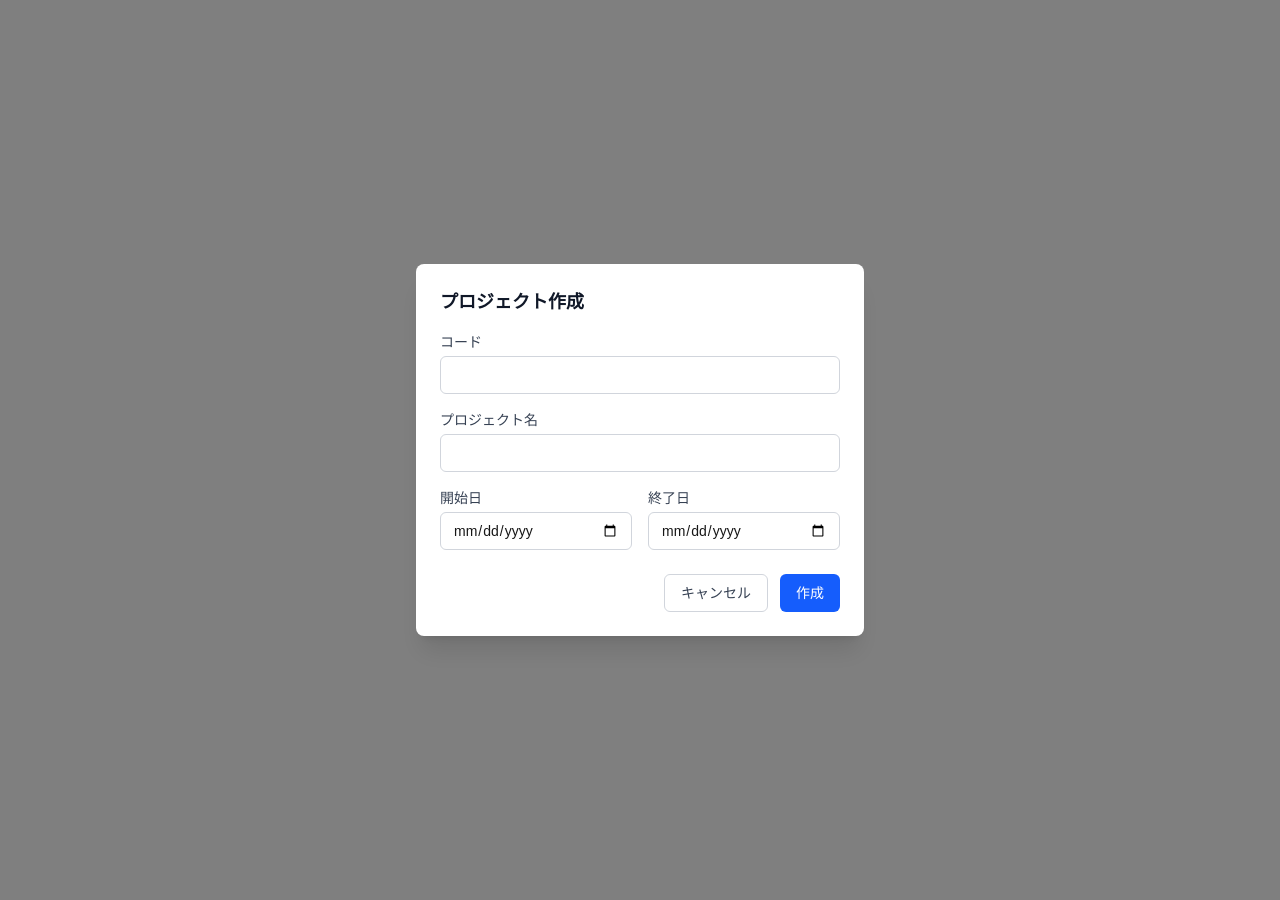
Test case: ProjectForm › shows generic error for non-API errors
Type "NEW" into the field labelled "コード" at x=640, y=375, box [440,356,840,394]
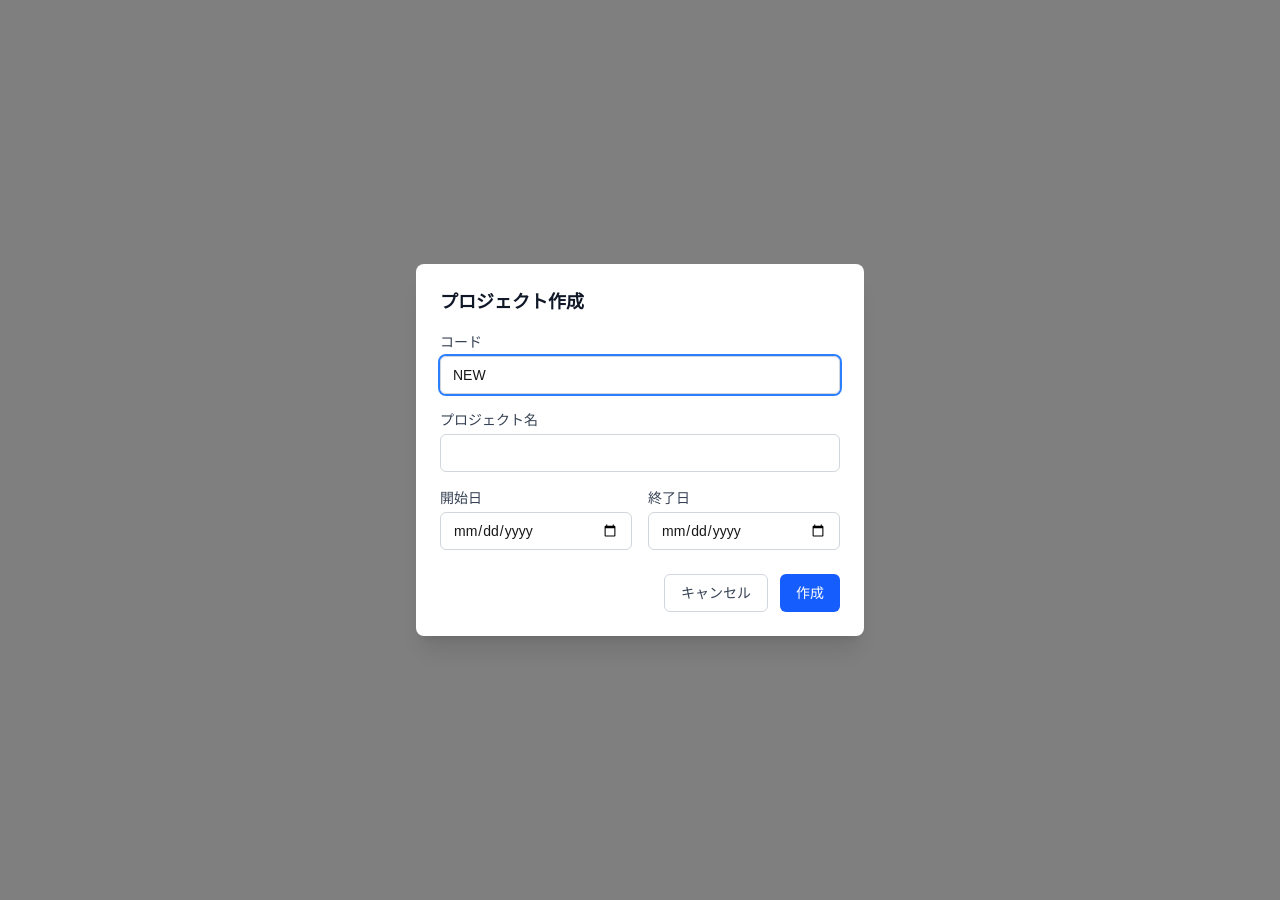
Type "Test" into the field labelled "プロジェクト名" at x=640, y=453, box [440,434,840,472]
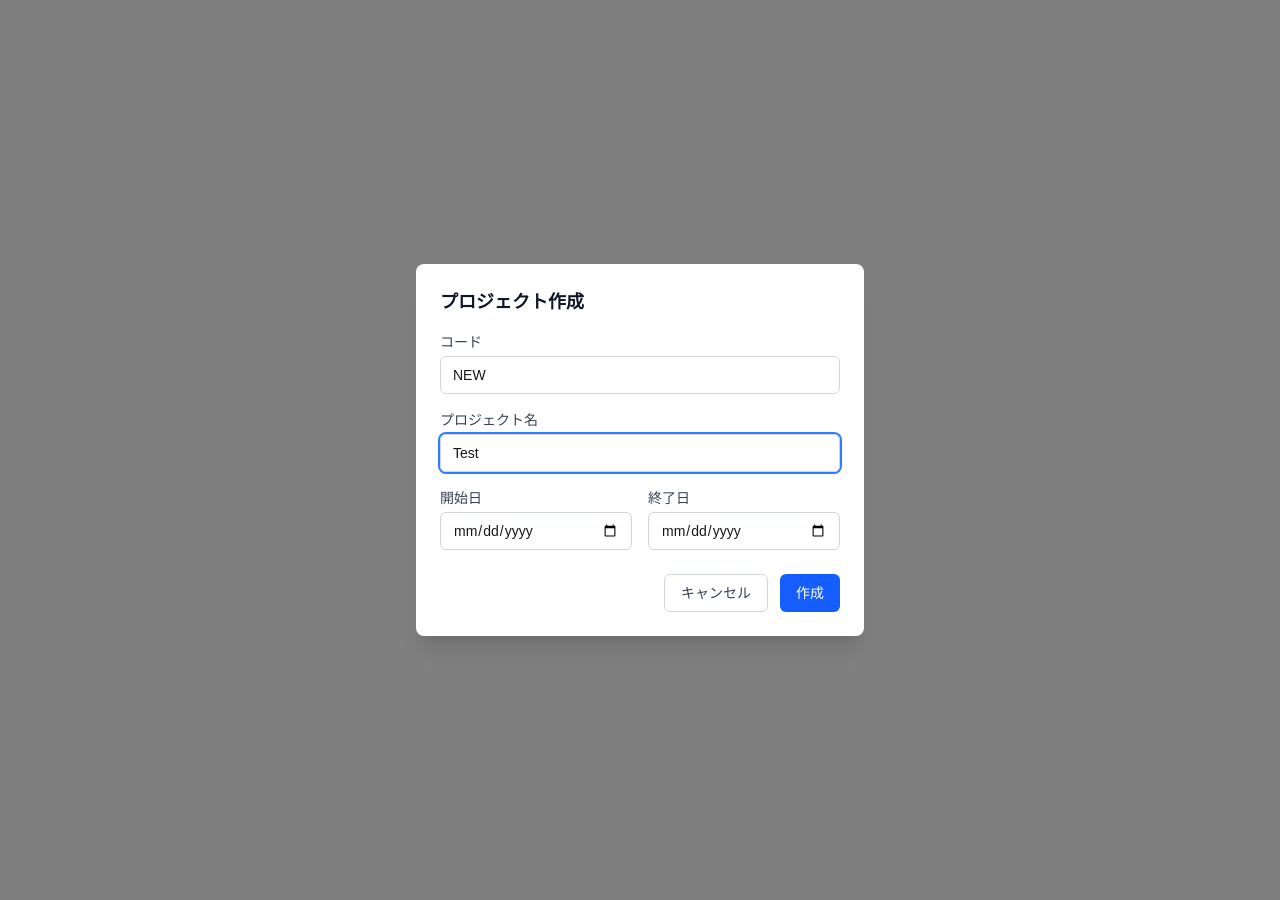
Click the button "作成" at x=810, y=593, box [780,574,840,612]
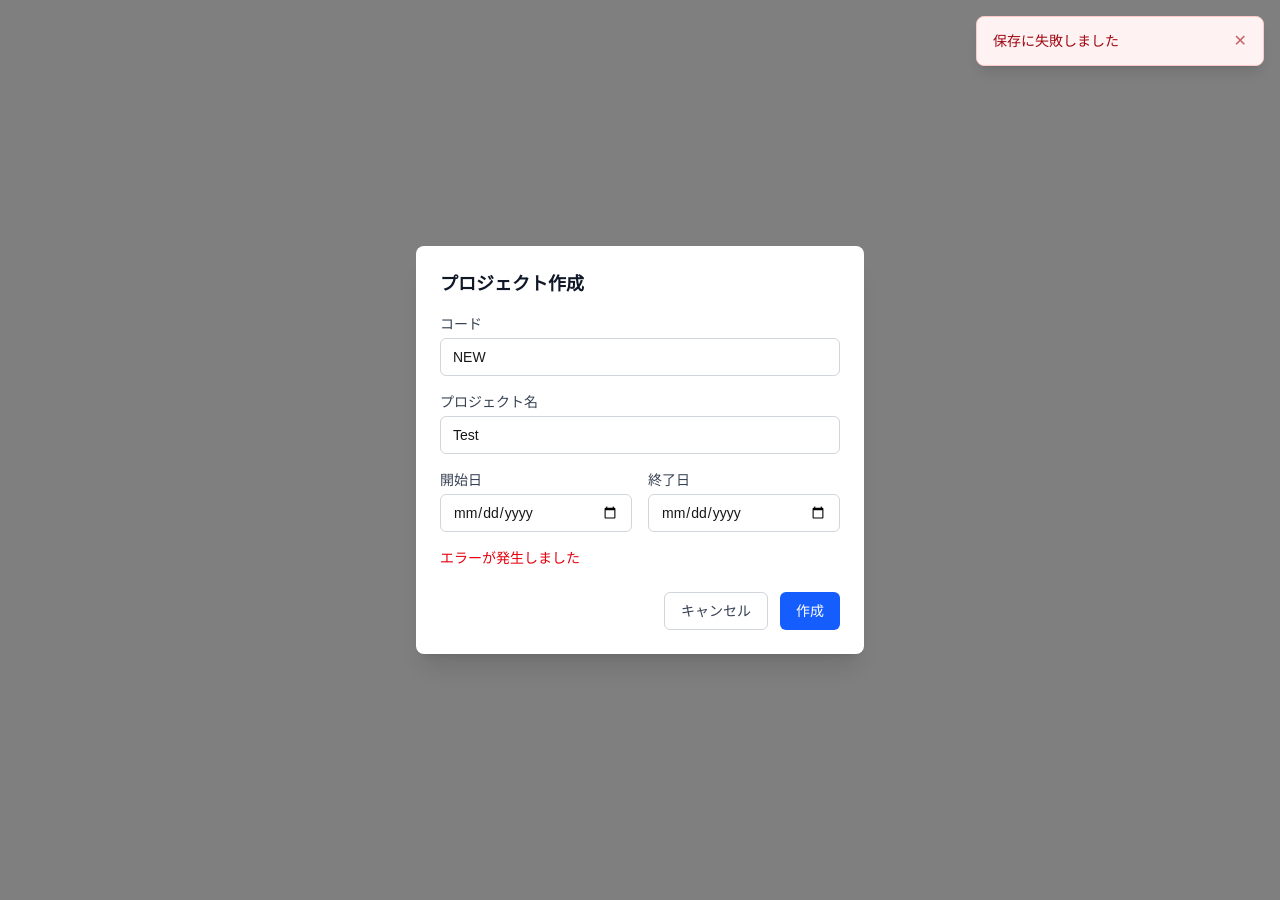
expect the text "エラーが発生しました" is shown: met, box [440,550,580,566]
